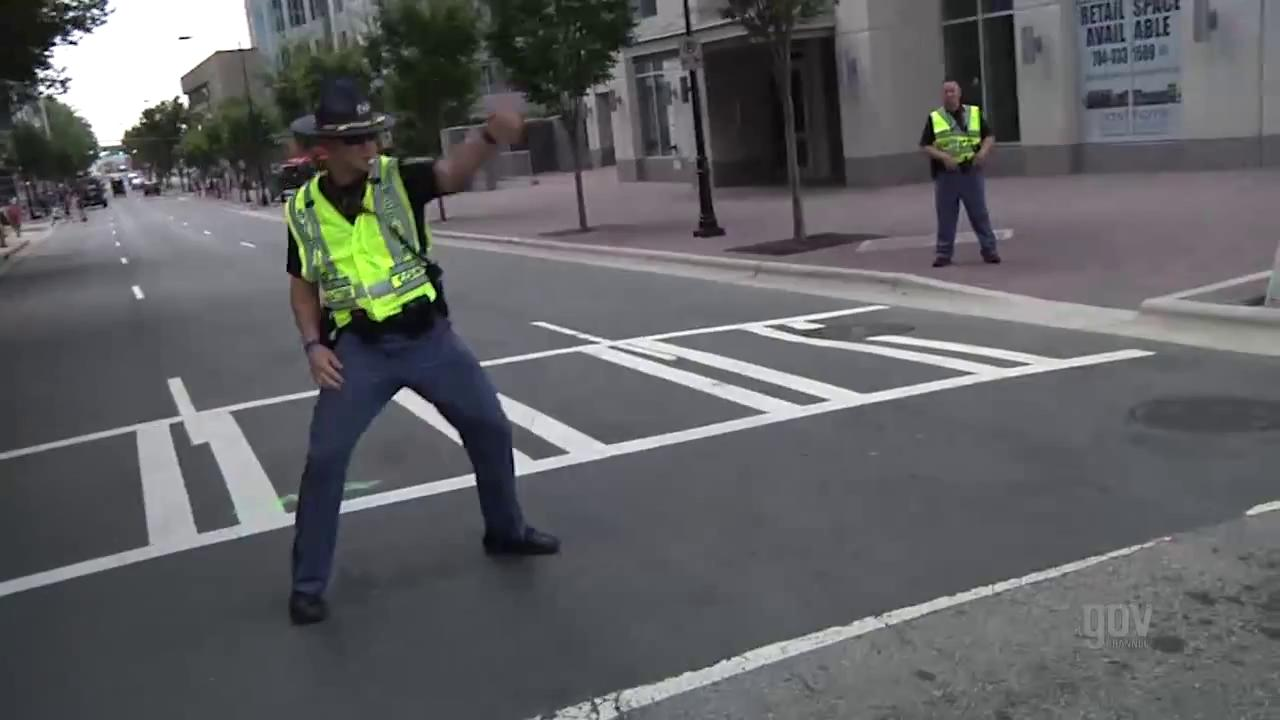victim: (270, 68, 578, 630), (914, 75, 1010, 276)
